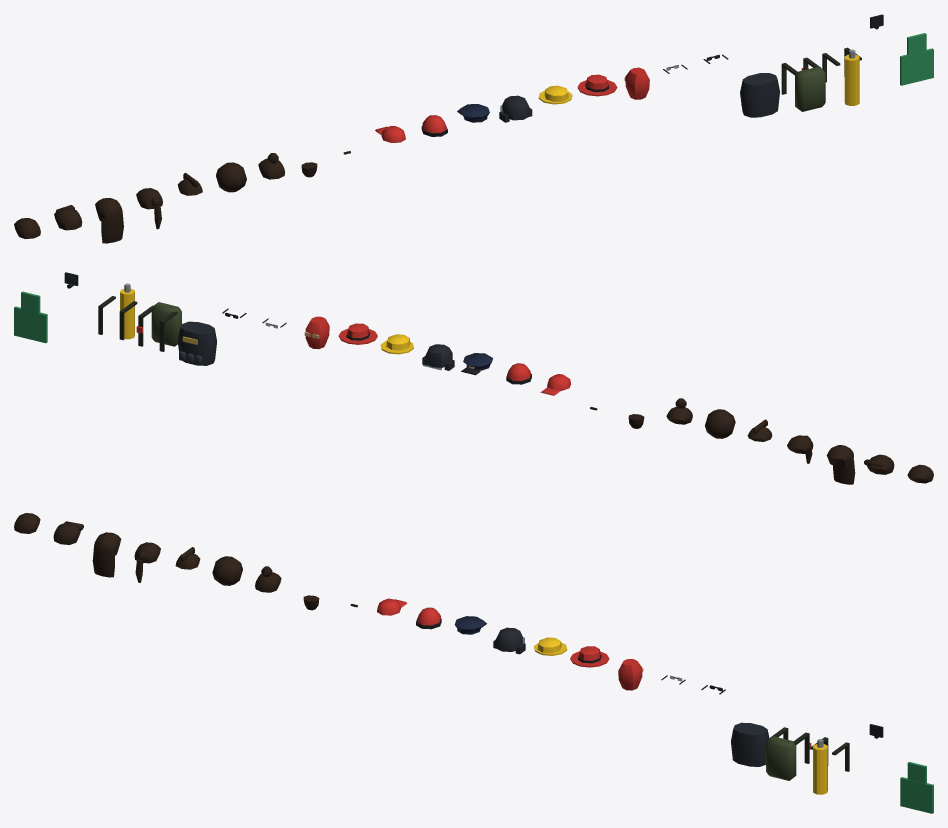
Rendered from char_parts.glb.
3 renders of one model, top to bottom at view 1: azimuth 30°, elevation 25°; view 2: azimuth 150°, elevation 25°; view 3: azimuth 330°, elevation 25°, orthographic.
Parts seen in each view (by area): view 1: Parachute_Pack, Vest, Apron, Scuba_Tank, Hair_Long, Hair_Afro, Hat_Helmet, Hat_Mask, Hat_Fedora, Hair_Pony, Hair_Quiff, Hair_Bun (+1 smaller); view 2: Vest, Parachute_Pack, Apron, Scuba_Tank, Hair_Long, Hair_Afro, Hat_Helmet, Hat_Mask, Hat_Fedora, Hat_Hard, Hat_Police, Hair_Bun (+2 smaller); view 3: Parachute_Pack, Vest, Apron, Scuba_Tank, Hair_Long, Hair_Afro, Hat_Helmet, Hat_Mask, Hat_Fedora.
Part boxes in pixels (x1=…): Parachute_Pack: x1=781, y1=57, x2=825, y2=111; Vest: x1=740, y1=73, x2=779, y2=117; Apron: x1=900, y1=33, x2=933, y2=85; Scuba_Tank: x1=822, y1=47, x2=861, y2=105; Hair_Long: x1=95, y1=198, x2=123, y2=243; Hair_Afro: x1=216, y1=162, x2=246, y2=192; Hat_Helmet: x1=499, y1=95, x2=532, y2=122; Hat_Mask: x1=624, y1=67, x2=649, y2=99; Hat_Fedora: x1=577, y1=74, x2=617, y2=96; Hair_Pony: x1=136, y1=188, x2=162, y2=229; Hair_Quiff: x1=54, y1=205, x2=82, y2=230; Hair_Bun: x1=258, y1=153, x2=285, y2=179; Vest: x1=177, y1=321, x2=216, y2=365; Parachute_Pack: x1=136, y1=302, x2=181, y2=351; Apron: x1=14, y1=291, x2=47, y2=343; Scuba_Tank: x1=98, y1=283, x2=137, y2=340; Hair_Long: x1=826, y1=445, x2=855, y2=484; Hair_Afro: x1=705, y1=409, x2=735, y2=438; Hat_Helmet: x1=422, y1=344, x2=454, y2=370; Hat_Mask: x1=304, y1=316, x2=329, y2=349; Hat_Fedora: x1=338, y1=323, x2=377, y2=344; Hat_Hard: x1=380, y1=334, x2=413, y2=354; Hat_Police: x1=461, y1=353, x2=493, y2=375; Hair_Bun: x1=666, y1=398, x2=692, y2=424; Parachute_Pack: x1=766, y1=727, x2=811, y2=780; Vest: x1=731, y1=722, x2=769, y2=766; Apron: x1=900, y1=762, x2=933, y2=813; Scuba_Tank: x1=810, y1=737, x2=849, y2=794; Hair_Long: x1=92, y1=532, x2=121, y2=577; Hair_Afro: x1=212, y1=556, x2=242, y2=585; Hat_Helmet: x1=493, y1=627, x2=525, y2=654; Hat_Mask: x1=618, y1=659, x2=643, y2=690; Hat_Fedora: x1=570, y1=646, x2=609, y2=667.
Size of the model in its own units: 10.2 by 0.98 by 0.505.
